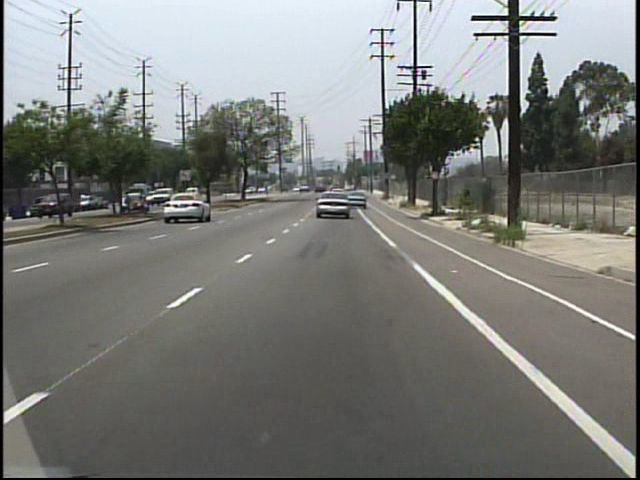person: (80, 192, 90, 213)
